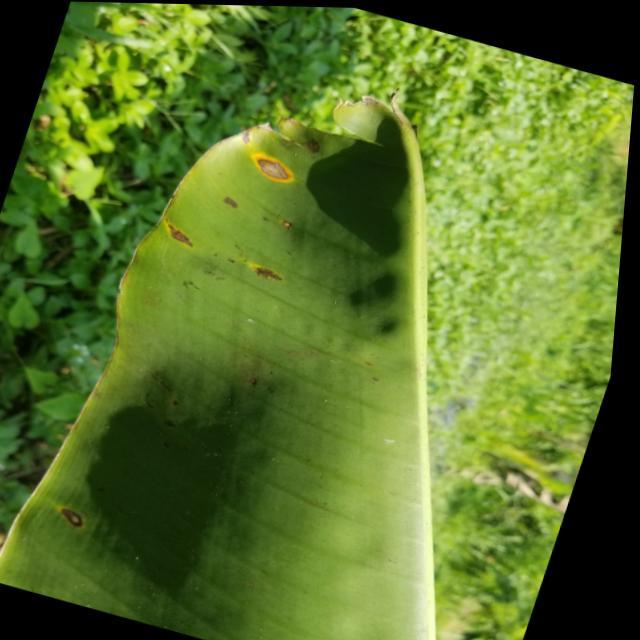Early_rust: (100, 71, 394, 306), (53, 486, 101, 547)
